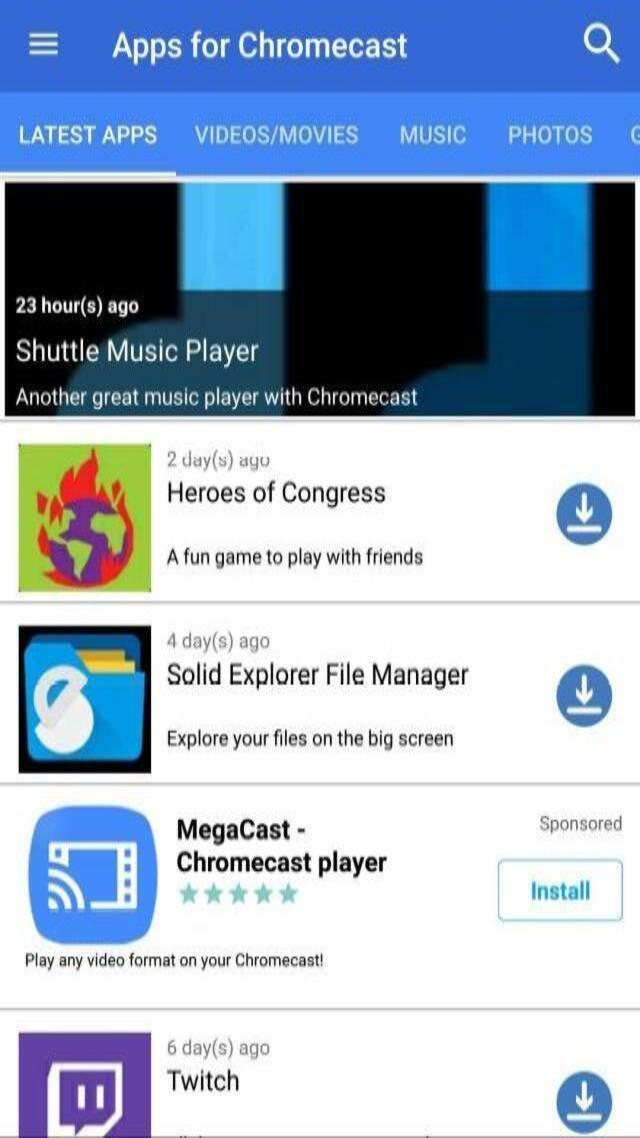Icon: (17, 443, 149, 593), (27, 806, 159, 946), (23, 637, 144, 770), (15, 1038, 150, 1138), (552, 480, 614, 549), (556, 661, 614, 730), (556, 1070, 614, 1137), (574, 14, 630, 73), (574, 14, 626, 64), (24, 22, 72, 70)
Image: (6, 177, 634, 418)
Text: (107, 25, 415, 70), (12, 382, 426, 412), (163, 660, 474, 693), (162, 540, 432, 574), (12, 335, 268, 370), (15, 949, 335, 974), (164, 727, 459, 752), (158, 480, 390, 510), (172, 850, 396, 880), (171, 813, 310, 846), (12, 289, 145, 322), (160, 446, 280, 474), (163, 626, 274, 656), (536, 812, 627, 841)
TextButton: (501, 858, 623, 924), (190, 114, 366, 155), (11, 113, 164, 154), (500, 111, 598, 151), (388, 118, 476, 153)
